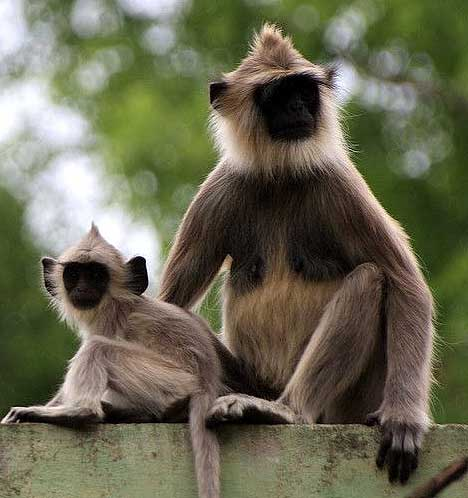monkey: (148, 20, 443, 485), (6, 223, 254, 498)
